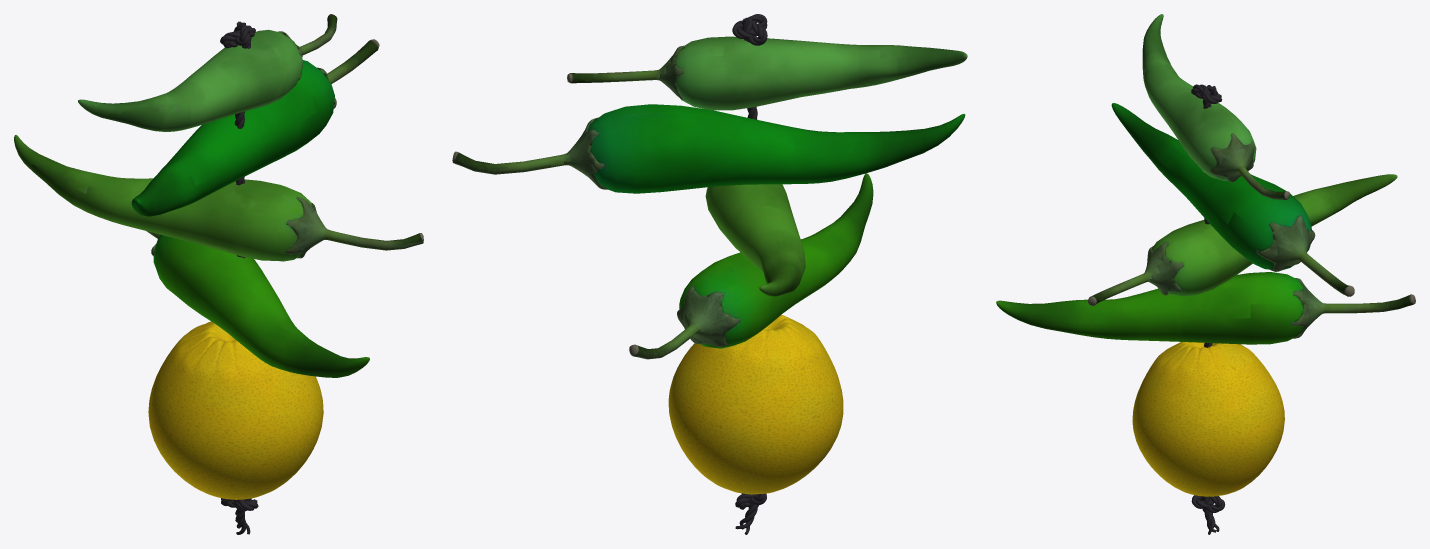
The model's file is chili-lime.glb.
The picture shows the model from 3 angles, left to right: view 1: azimuth 30°, elevation 25°; view 2: azimuth 150°, elevation 25°; view 3: azimuth 270°, elevation 25°; orthographic projection. The views are drawn at different scales.
Parts seen in each view (by area): view 1: Lime, Chili 2, Chili 3.001, Chili 1, Chili 4.001, Thread 1, Thread 3, Thread 2; view 2: Chili 3.001, Lime, Chili 4.001, Chili 1, Chili 2, Thread 2; view 3: Lime, Chili 1, Chili 3.001, Chili 2, Chili 4.001, Thread 2.
Boxes of the visible parts, x1=… form: Lime: x1=148, y1=321, x2=323, y2=499; Chili 2: x1=14, y1=135, x2=423, y2=261; Chili 3.001: x1=131, y1=39, x2=379, y2=216; Chili 1: x1=146, y1=231, x2=369, y2=377; Chili 4.001: x1=78, y1=14, x2=337, y2=131; Thread 1: x1=224, y1=22, x2=254, y2=528; Thread 3: x1=220, y1=21, x2=257, y2=534; Thread 2: x1=221, y1=22, x2=258, y2=534; Chili 3.001: x1=452, y1=104, x2=965, y2=193; Lime: x1=668, y1=315, x2=843, y2=494; Chili 4.001: x1=567, y1=36, x2=967, y2=110; Chili 1: x1=629, y1=173, x2=873, y2=359; Chili 2: x1=705, y1=184, x2=805, y2=296; Thread 2: x1=736, y1=14, x2=767, y2=534; Lime: x1=1132, y1=342, x2=1284, y2=496; Chili 1: x1=996, y1=272, x2=1415, y2=344; Chili 3.001: x1=1111, y1=103, x2=1354, y2=296; Chili 2: x1=1087, y1=174, x2=1397, y2=305; Chili 4.001: x1=1142, y1=14, x2=1290, y2=199; Thread 2: x1=1192, y1=84, x2=1222, y2=532.
Bounding box in the file's own units: 17.12 × 20.67 × 17.58.
6 materials, 5 textured.
